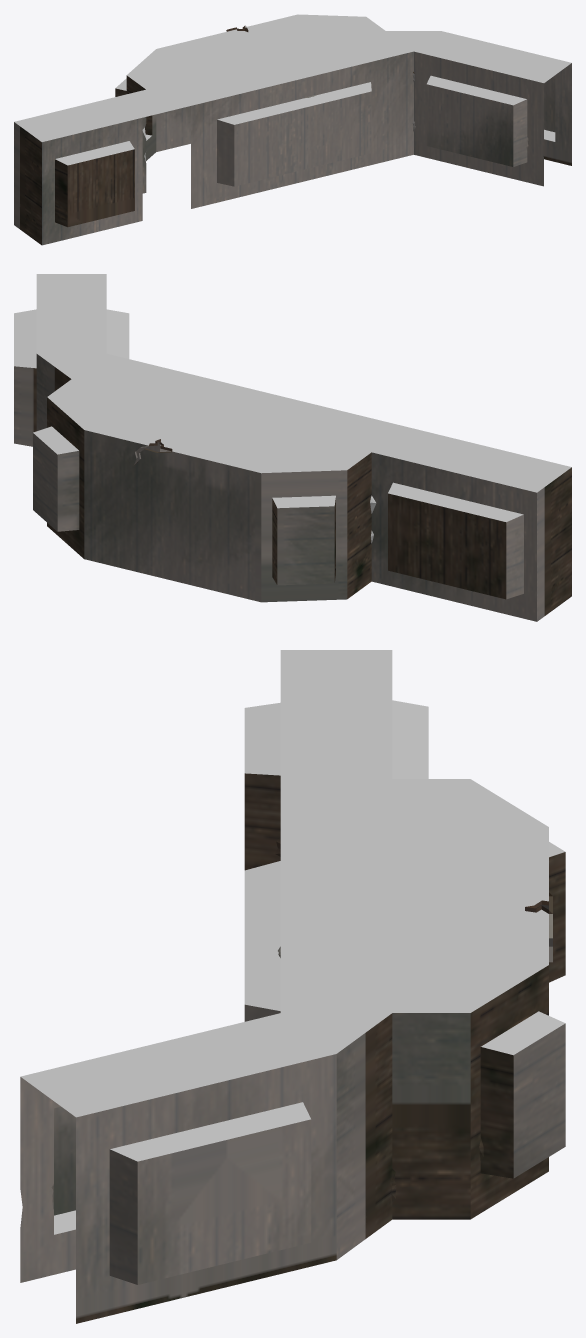
File: Chamber4.fbx
3 renders of one model, top to bottom at view 1: azimuth 30°, elevation 25°; view 2: azimuth 150°, elevation 25°; view 3: azimuth 270°, elevation 25°, orthographic. The views are drawn at different scales.
Visible parts, largest first — view 1: Chamber_4_Mural.001, Chamber_4_Mural.013, Chamber_4_Mural.015, Chamber_4_Mural.020, Chamber_4_Mural.011, Chamber_4_Mural.002, Chamber_4_Mural, Chamber_4_Mural.005, Chamber_4_Mural.003, Chamber_4_Mural.012, Chamber_4_Mural.017, Chamber_4_Mural.019; view 2: Chamber_4_Mural.001, Chamber_4_Mural.005, Chamber_4_Mural.019, Chamber_4_Mural.017, Chamber_4_Mural.016, Chamber_4_Mural.011, Chamber_4_Mural.018, Chamber_4_Mural.002, Chamber_4_Mural.010, Chamber_4_Mural.014, Chamber_4_Mural.004, Chamber_4_Mural.003 (+2 smaller); view 3: Chamber_4_Mural.001, Chamber_4_Mural.002, Chamber_4_Mural.016, Chamber_4_Mural.007, Chamber_4_Mural.004, Chamber_4_Mural.015, Chamber_4_Mural, Chamber_4_Mural.014, Chamber_4_Mural.020, Chamber_4_Mural.010, Chamber_4_Mural.012, Chamber_4_Mural.017 (+1 smaller).
Boxes of the visible parts, left/top/right/bottom form: Chamber_4_Mural.001: left=14, top=14, right=571, bottom=141; Chamber_4_Mural.013: left=191, top=51, right=413, bottom=208; Chamber_4_Mural.015: left=412, top=51, right=543, bottom=186; Chamber_4_Mural.020: left=42, top=117, right=142, bottom=245; Chamber_4_Mural.011: left=14, top=122, right=41, bottom=245; Chamber_4_Mural.002: left=543, top=63, right=571, bottom=165; Chamber_4_Mural: left=217, top=82, right=371, bottom=124; Chamber_4_Mural.005: left=156, top=25, right=248, bottom=151; Chamber_4_Mural.003: left=427, top=75, right=526, bottom=105; Chamber_4_Mural.012: left=55, top=141, right=134, bottom=165; Chamber_4_Mural.017: left=115, top=88, right=156, bottom=160; Chamber_4_Mural.019: left=142, top=117, right=146, bottom=193; Chamber_4_Mural.001: left=36, top=274, right=571, bottom=492; Chamber_4_Mural.005: left=84, top=430, right=261, bottom=602; Chamber_4_Mural.019: left=371, top=452, right=536, bottom=621; Chamber_4_Mural.017: left=261, top=470, right=347, bottom=602; Chamber_4_Mural.016: left=33, top=397, right=84, bottom=558; Chamber_4_Mural.011: left=537, top=467, right=571, bottom=621; Chamber_4_Mural.018: left=347, top=452, right=371, bottom=598; Chamber_4_Mural.002: left=14, top=366, right=36, bottom=446; Chamber_4_Mural.010: left=388, top=482, right=523, bottom=522; Chamber_4_Mural.014: left=14, top=309, right=36, bottom=368; Chamber_4_Mural.004: left=36, top=354, right=71, bottom=430; Chamber_4_Mural.003: left=106, top=309, right=129, bottom=358; Chamber_4_Mural.001: left=21, top=650, right=548, bottom=1117; Chamber_4_Mural.002: left=76, top=1054, right=336, bottom=1323; Chamber_4_Mural.016: left=470, top=965, right=565, bottom=1218; Chamber_4_Mural.007: left=392, top=1013, right=470, bottom=1219; Chamber_4_Mural.004: left=336, top=1013, right=396, bottom=1259; Chamber_4_Mural.015: left=20, top=1077, right=75, bottom=1282; Chamber_4_Mural: left=244, top=861, right=280, bottom=1010; Chamber_4_Mural.014: left=110, top=1102, right=310, bottom=1161; Chamber_4_Mural.020: left=244, top=773, right=280, bottom=870; Chamber_4_Mural.010: left=392, top=700, right=428, bottom=778; Chamber_4_Mural.012: left=244, top=702, right=280, bottom=775; Chamber_4_Mural.017: left=536, top=852, right=565, bottom=982.
Size of the model in its own units: 3060 by 639 by 1500.
